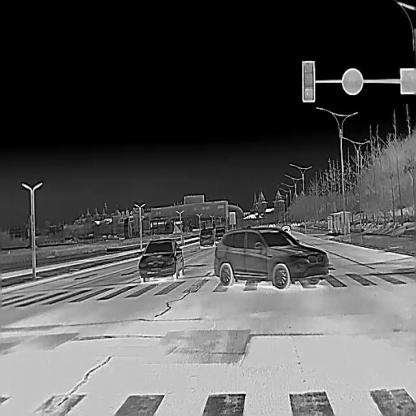car: (213, 226, 329, 288), (138, 238, 183, 282), (199, 228, 214, 248), (214, 225, 226, 241), (281, 224, 290, 234)
